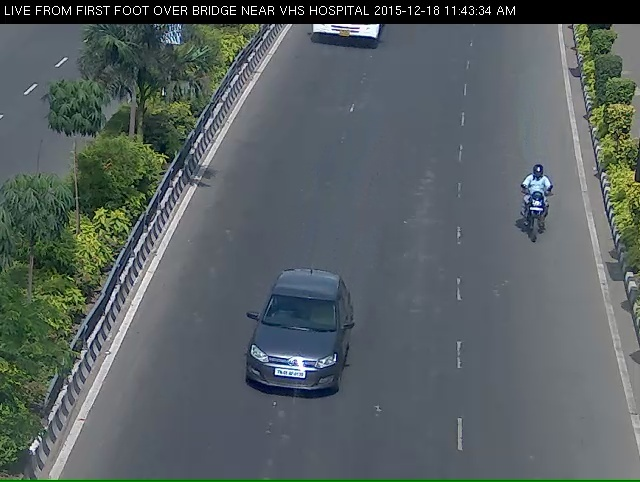Car: (224, 298, 353, 443)
Person: (515, 168, 564, 264)
